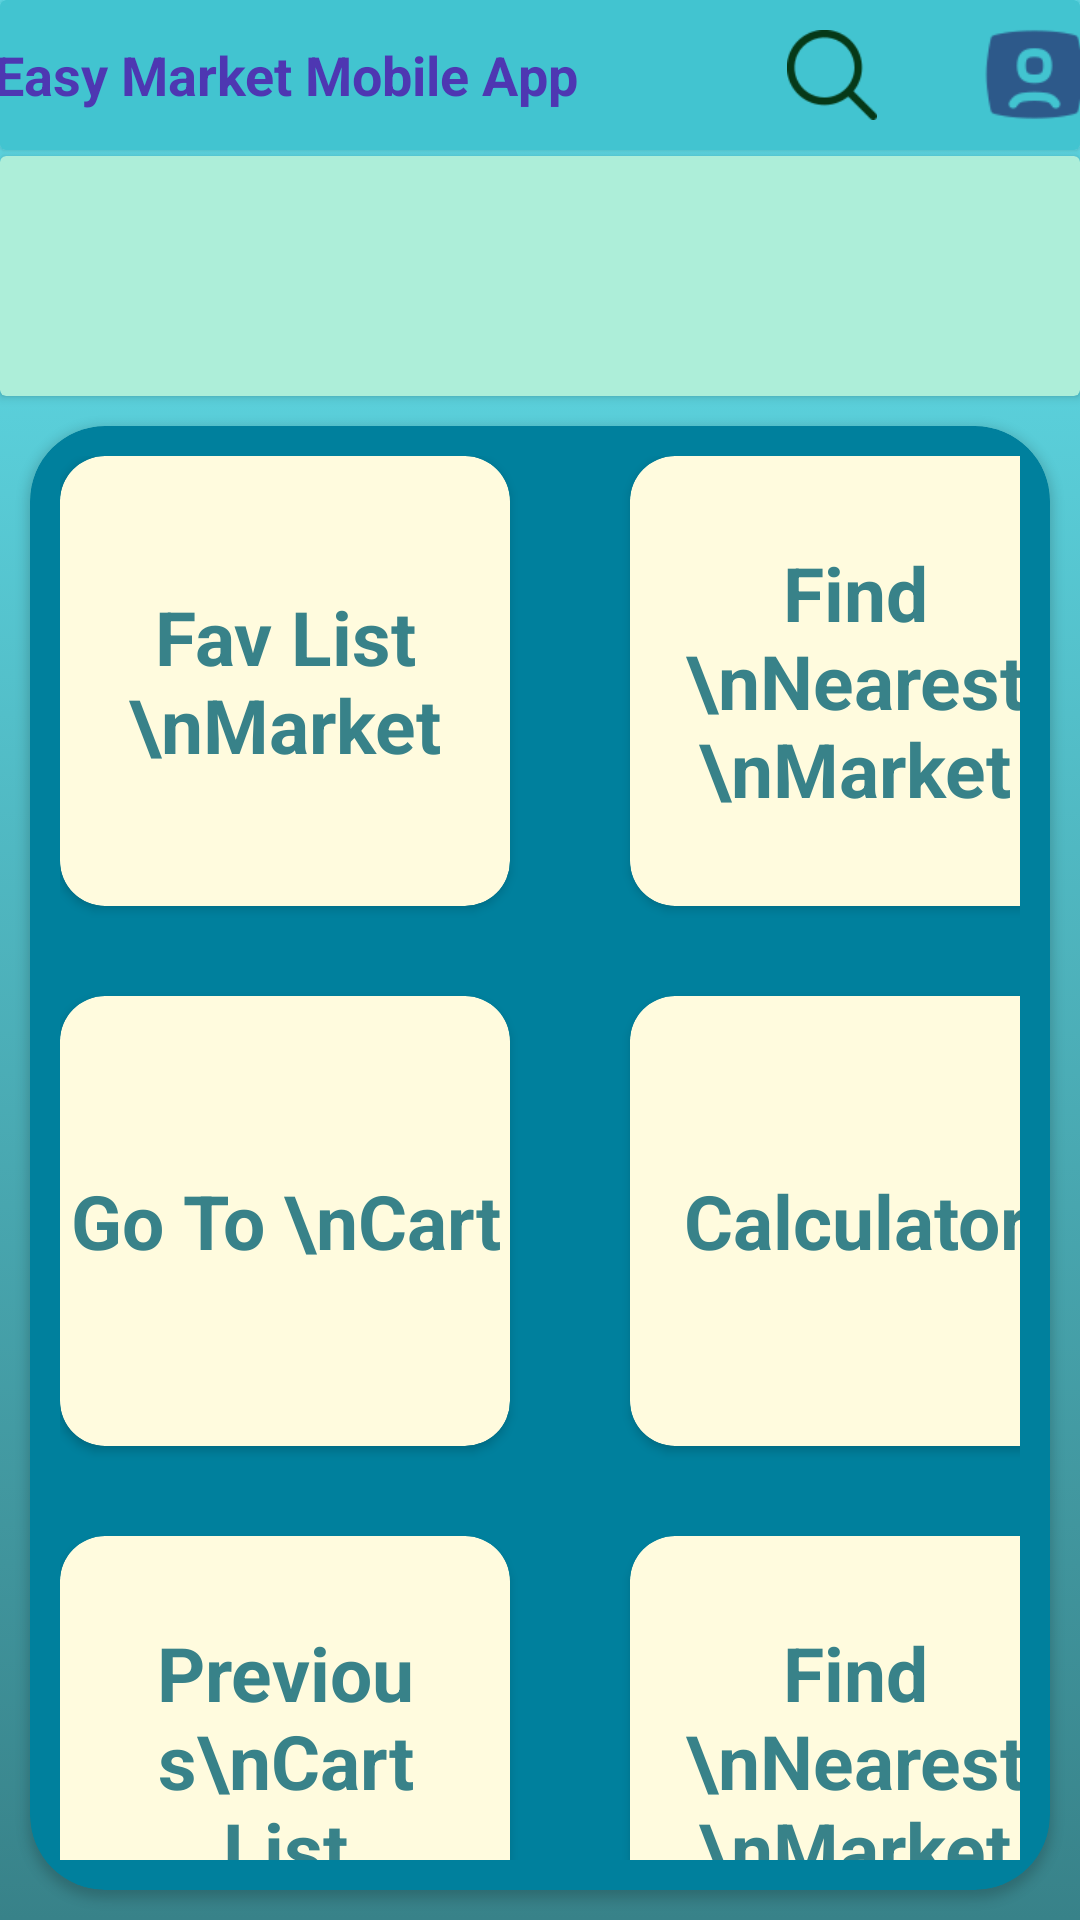

Where icons sit on this 1080w x 1920h app screen, as (x1, y1, x2, y2):
profileicon: (986, 30, 1080, 119)
search: (787, 30, 877, 120)
